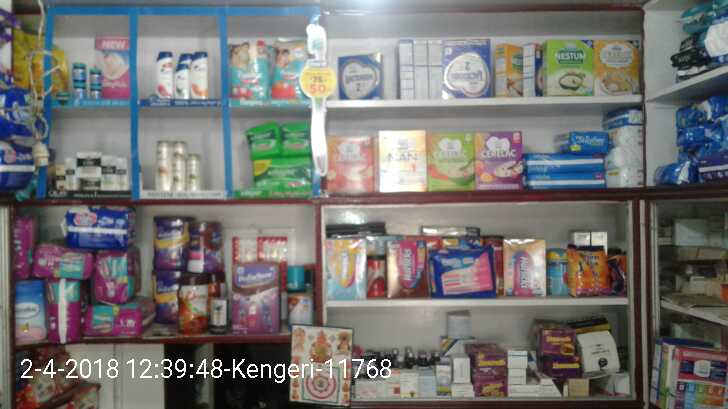vicks: (72, 61, 85, 98), (90, 66, 103, 96)
